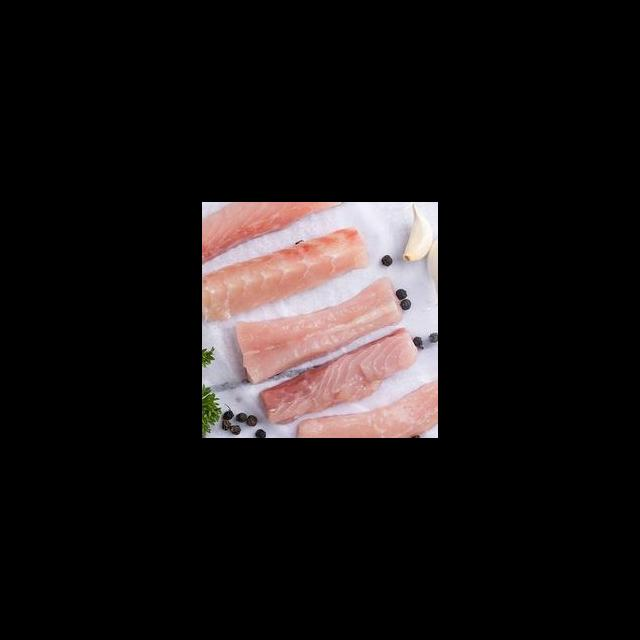fish: (228, 271, 404, 388)
